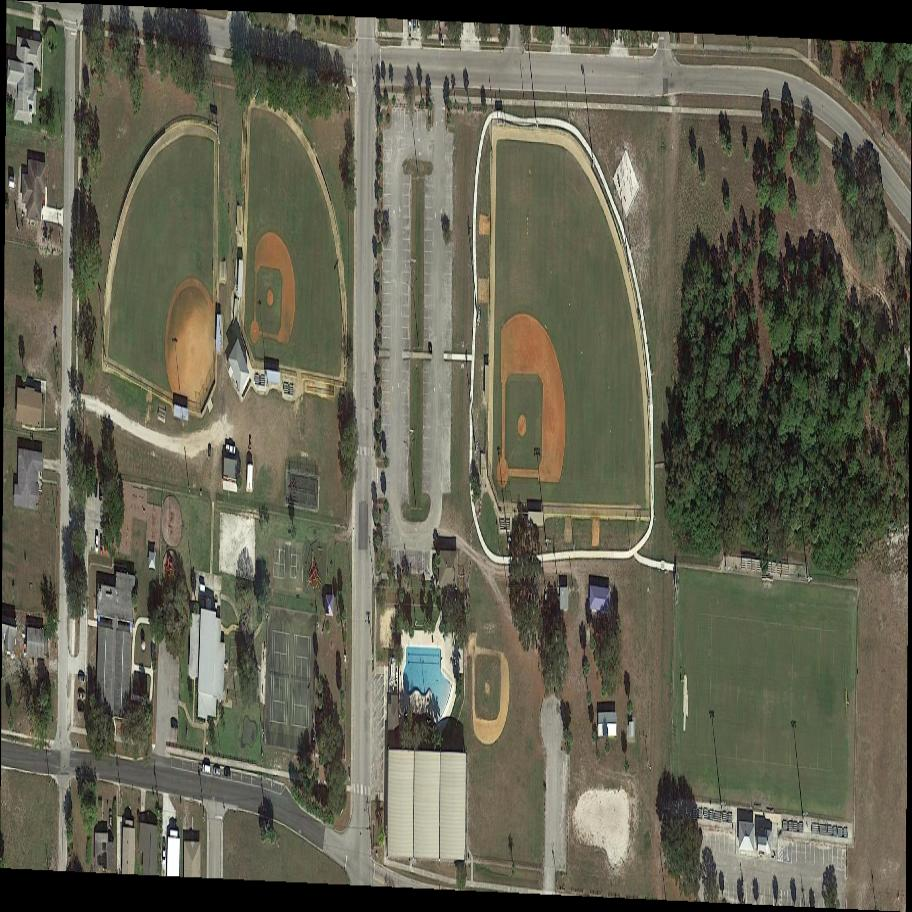small-vehicle: (222, 766, 231, 779), (225, 443, 237, 452), (162, 842, 166, 862), (213, 766, 221, 776), (78, 672, 86, 681), (77, 692, 86, 700), (203, 764, 210, 774), (99, 532, 102, 553), (249, 434, 252, 453), (109, 808, 112, 826), (96, 535, 98, 551)
